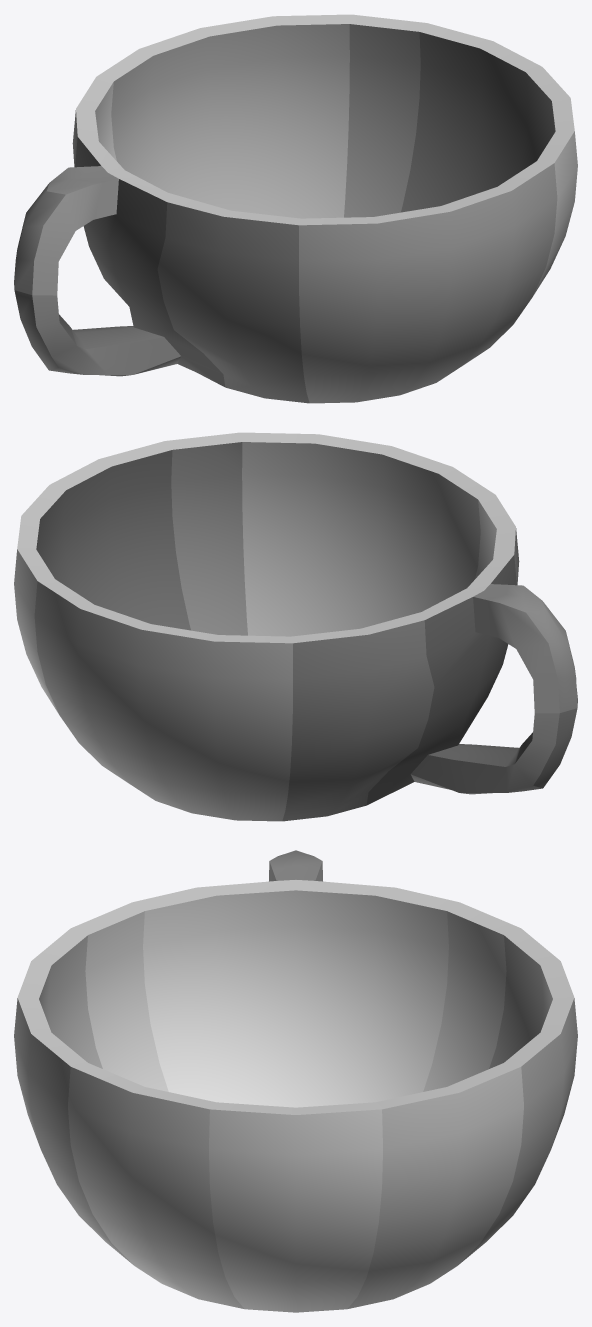
File: cappuccinocup.fbx
3 renders of one model, top to bottom at view 1: azimuth 30°, elevation 25°; view 2: azimuth 150°, elevation 25°; view 3: azimuth 270°, elevation 25°, orthographic. The views are drawn at different scales.
Parts seen in each view (by area): view 1: pSphere1; view 2: pSphere1; view 3: pSphere1.
Boxes of the visible parts, x1,y1,x2,y2 form: pSphere1: [14, 14, 577, 403]; pSphere1: [14, 432, 577, 821]; pSphere1: [14, 850, 577, 1312].
Bounding box in the file's own units: 16.23 × 6.64 × 13.45.
Materials: 1 (1 with a texture image).
